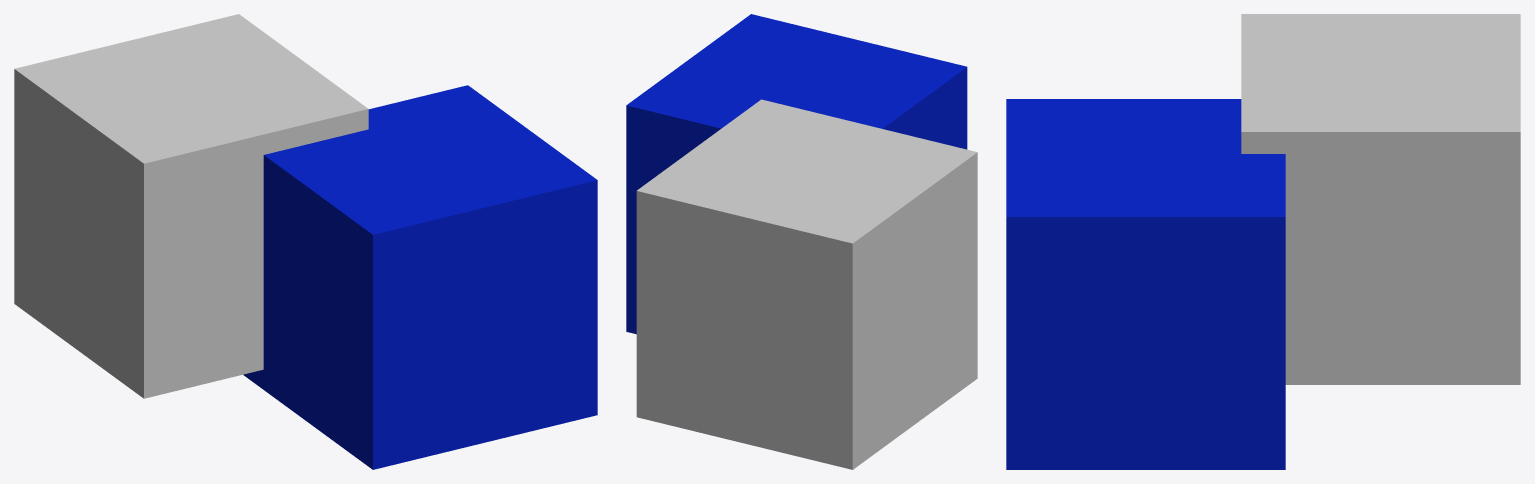
The model's file is boxes.dae.
The picture shows the model from 3 angles, left to right: view 1: azimuth 30°, elevation 25°; view 2: azimuth 150°, elevation 25°; view 3: azimuth 270°, elevation 25°; orthographic projection. The views are drawn at different scales.
Visible parts, largest first — view 1: Cube, Cube_001; view 2: Cube_001, Cube; view 3: Cube, Cube_001.
Boxes of the visible parts, x1,y1,x2,y2 form: Cube: (243,85,597,469); Cube_001: (14,14,368,398); Cube_001: (636,99,977,469); Cube: (626,14,967,334); Cube: (1006,99,1285,469); Cube_001: (1241,14,1520,384).
Size of the model in its own units: 3.07 by 3.68 by 2.17.
